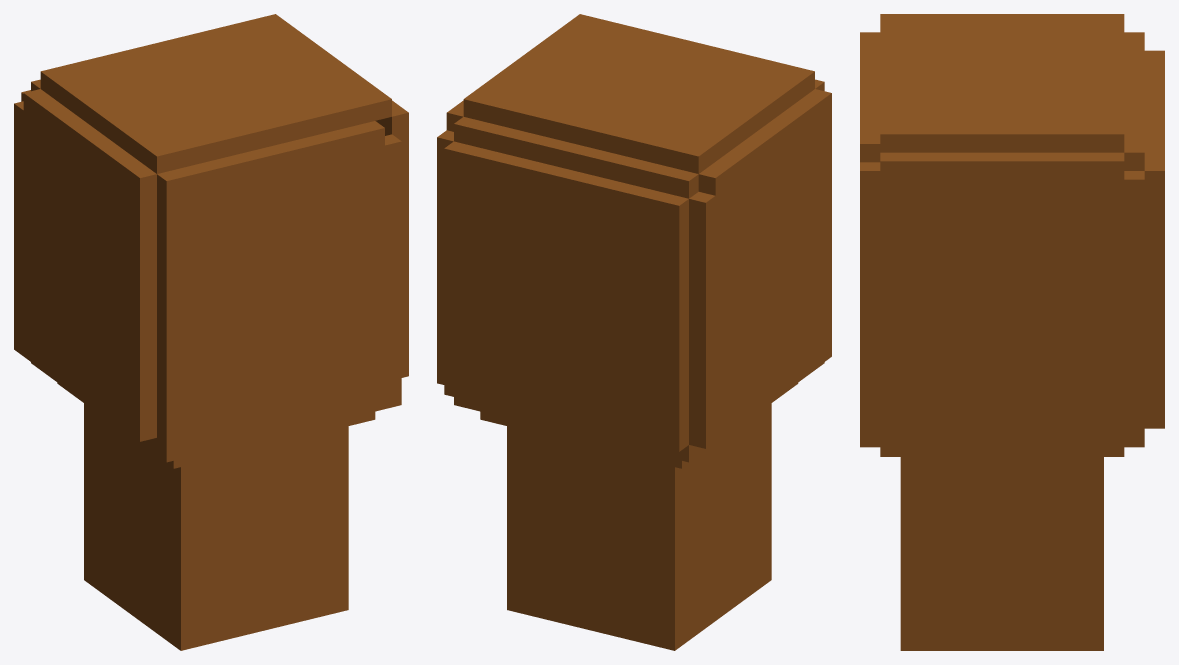
File: medved-6.obj
3 renders of one model, left to right at view 1: azimuth 30°, elevation 25°; view 2: azimuth 150°, elevation 25°; view 3: azimuth 270°, elevation 25°, orthographic. The views are drawn at different scales.
Size of the model in its own units: 1.6 by 2.9 by 1.5.
1 material, 1 textured.
